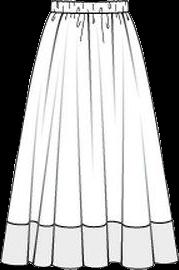Hemline: (0, 259, 178, 269)
Waistline: (50, 10, 129, 15), (50, 0, 126, 5)
